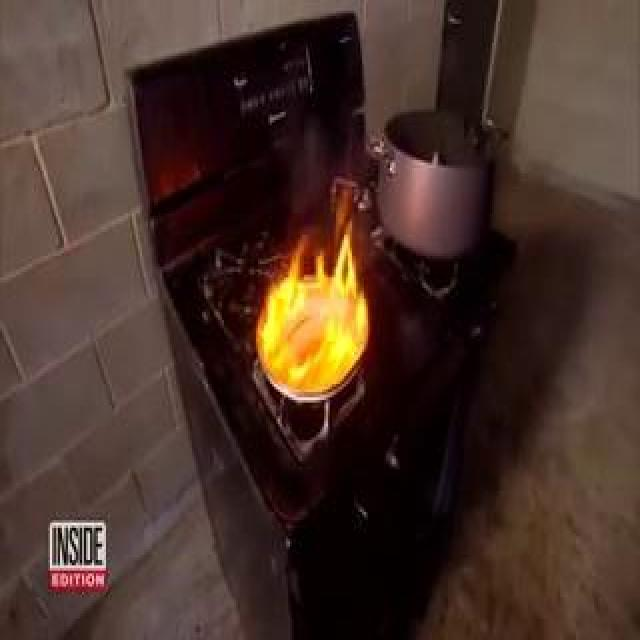Fire: (250, 179, 388, 408)
